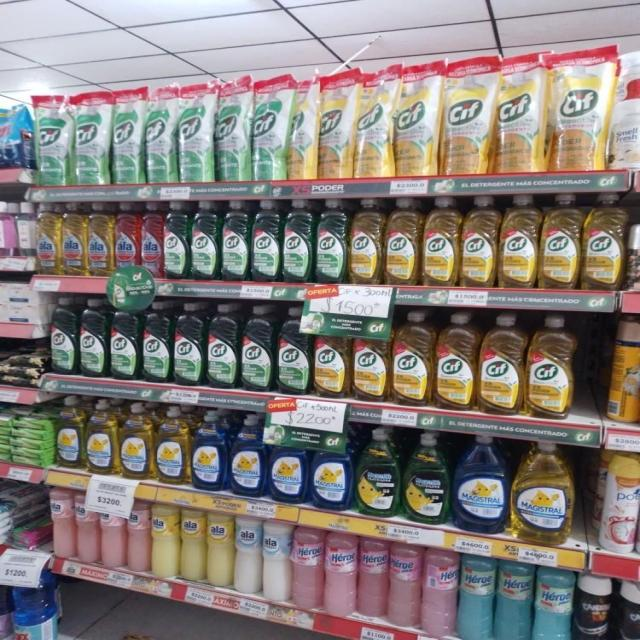ala_conc_amarillo: (88, 201, 113, 277), (62, 201, 86, 276), (36, 202, 60, 276)
ala_conc_rojo: (115, 201, 139, 275), (140, 200, 162, 278)
ala_crem_amarillo: (151, 502, 179, 578), (207, 510, 233, 588), (181, 508, 206, 582)
ala_crem_blanco: (262, 519, 291, 602), (235, 514, 261, 594)
ala_crem_rosado: (126, 499, 150, 574), (50, 489, 74, 559), (76, 492, 99, 564)
cif_conc_bot_amarilla: (527, 314, 576, 419), (479, 312, 524, 416), (583, 191, 626, 291), (435, 312, 476, 412), (540, 192, 580, 290), (392, 310, 432, 407), (500, 194, 538, 289), (352, 309, 390, 403), (461, 194, 497, 288), (422, 196, 459, 287), (313, 310, 350, 398), (385, 196, 421, 286), (349, 197, 383, 285)
cif_conc_botella_verde: (276, 306, 312, 395), (241, 305, 274, 393), (315, 198, 348, 284), (207, 303, 239, 390), (173, 302, 205, 388), (283, 198, 313, 284), (142, 300, 172, 385), (251, 199, 281, 283), (110, 298, 140, 382), (190, 199, 220, 281), (222, 199, 250, 282), (49, 296, 78, 376), (80, 297, 108, 379), (164, 200, 188, 280)
cif_conc_sachet_amarillo: (550, 48, 611, 172), (496, 53, 547, 174), (443, 55, 493, 176), (395, 59, 440, 178), (356, 64, 393, 178), (319, 66, 354, 179), (612, 48, 640, 167), (290, 70, 318, 180)
cif_conc_sachet_verde: (252, 72, 288, 181), (178, 79, 214, 183), (217, 74, 250, 182), (73, 91, 110, 185), (35, 94, 71, 186), (145, 83, 176, 184), (112, 87, 143, 184)
heroe: (422, 548, 458, 638), (458, 553, 494, 640), (496, 559, 532, 640), (534, 566, 573, 640), (389, 541, 421, 628), (325, 531, 356, 616), (292, 526, 323, 610), (358, 537, 388, 619)
magistral_con_amarillo: (512, 440, 575, 544), (155, 405, 190, 485), (120, 402, 154, 479), (86, 398, 118, 476), (56, 396, 84, 470)
magistral_con_azul: (453, 433, 509, 533), (310, 430, 352, 510), (230, 413, 267, 498), (192, 408, 228, 492), (269, 441, 308, 504)
